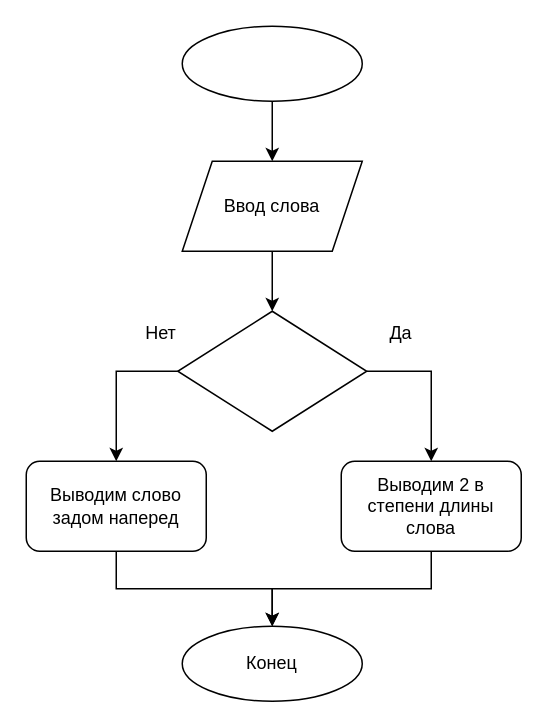
Image size: 548x728. Some labels were removed from this diagram. The shapes that lost their labels are listed below. From the top down, each one's centre as x and y in pixels, then its label:
At (x=271, y=63): "Начало".
At (x=271, y=370): "Слово заканчивается на cs?".
